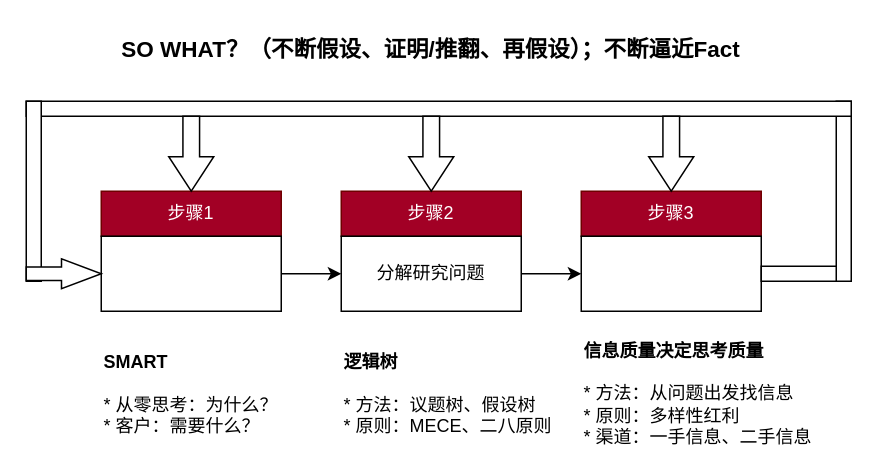
Image size: 878x473. Some labels were removed from this diagram. Here are the shapes that lost their labels. From the top down, the box of each, then its label:
(100, 235, 281, 311): 明确研究范围
(580, 235, 761, 311): 信息输入与整理
